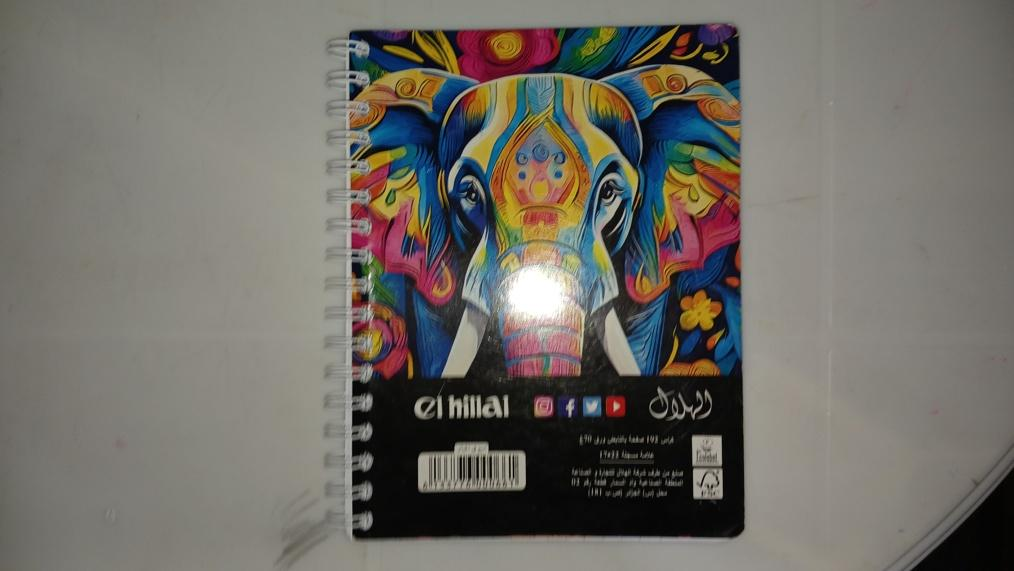notebook: (328, 22, 745, 544)
